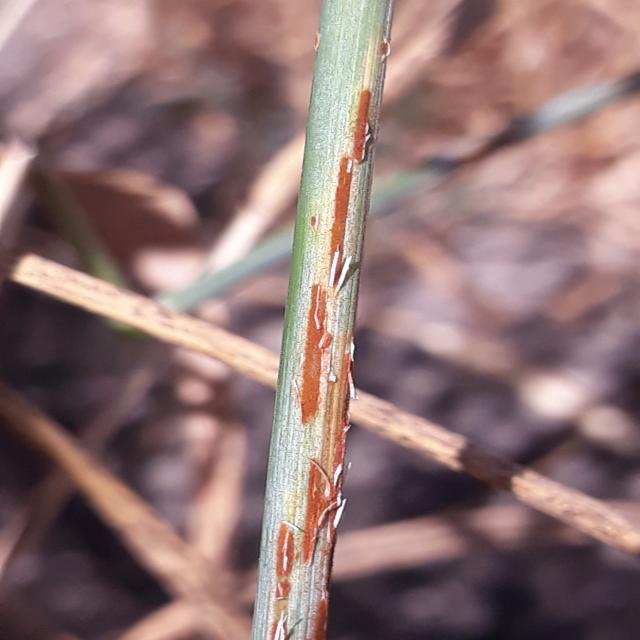black_stem_rust: (239, 0, 409, 638)
